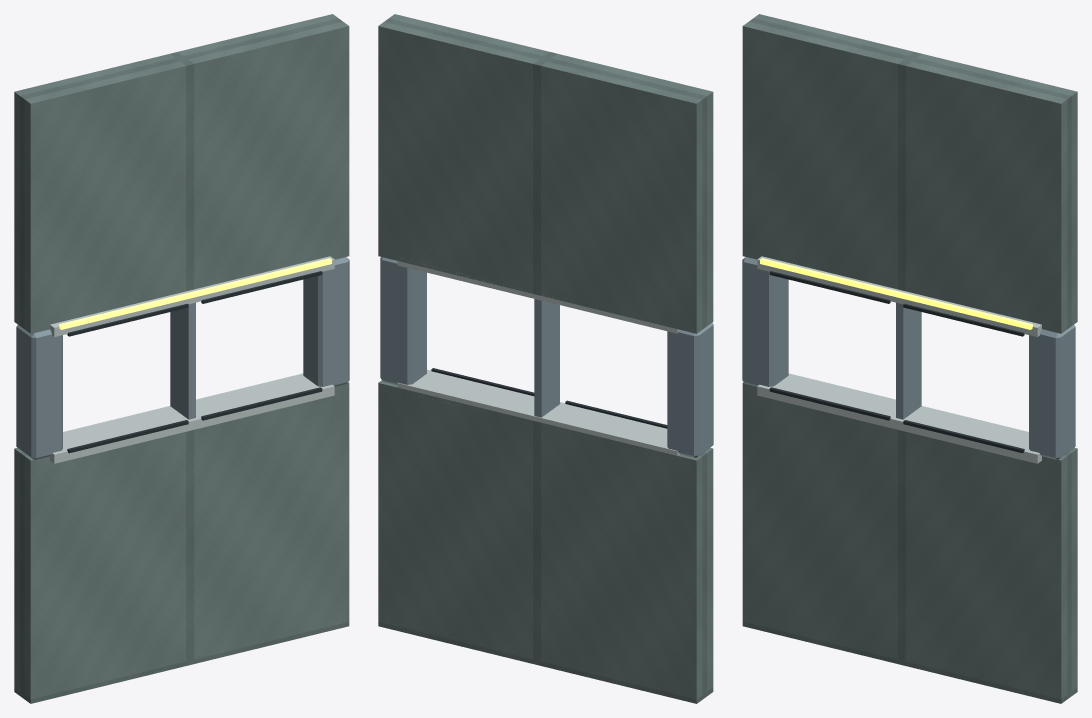
The model's file is Hab_Wall_Window_2m.glb.
The picture shows the model from 3 angles, left to right: view 1: azimuth 30°, elevation 25°; view 2: azimuth 150°, elevation 25°; view 3: azimuth 330°, elevation 25°; orthographic projection.
Visible parts, largest first — view 1: Hab_Wall_Window_2m; view 2: Hab_Wall_Window_2m; view 3: Hab_Wall_Window_2m.
Boxes of the visible parts, x1,y1,x2,y2 form: Hab_Wall_Window_2m: (14,14,349,703); Hab_Wall_Window_2m: (378,14,713,703); Hab_Wall_Window_2m: (742,14,1077,703).
Bounding box in the file's own units: 2 × 3.6 × 0.2525.
5 materials, 1 textured.
